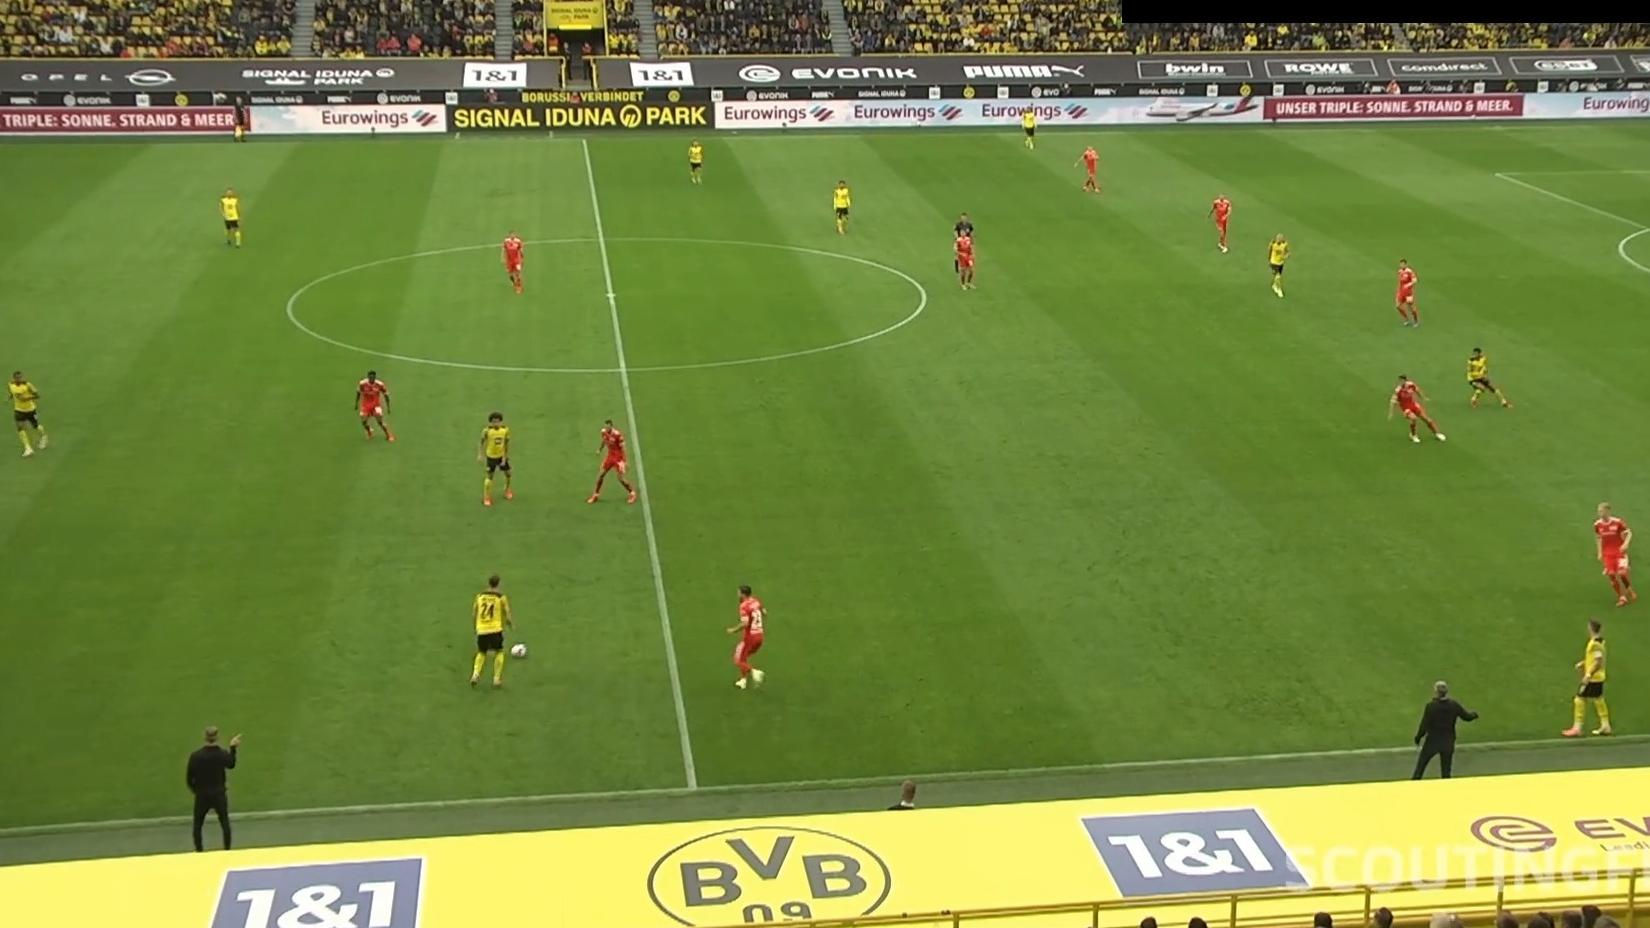ball: (510, 641, 528, 659)
